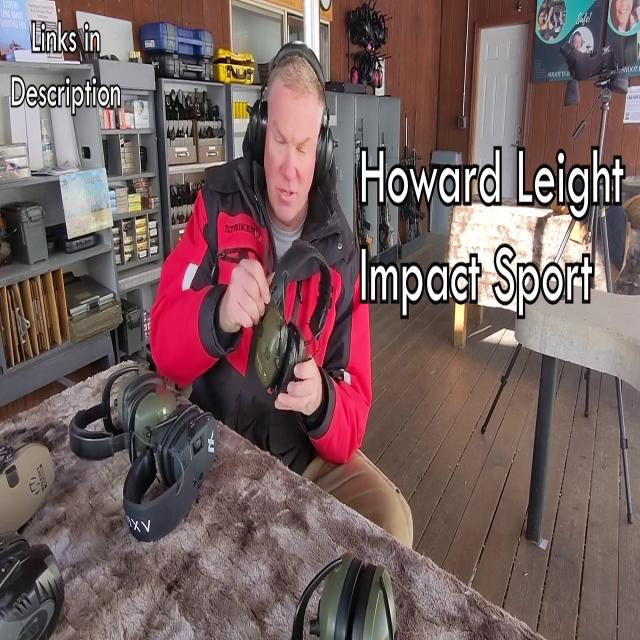earmuff: (253, 290, 288, 394), (276, 314, 306, 412), (243, 93, 269, 162), (314, 121, 340, 187)
